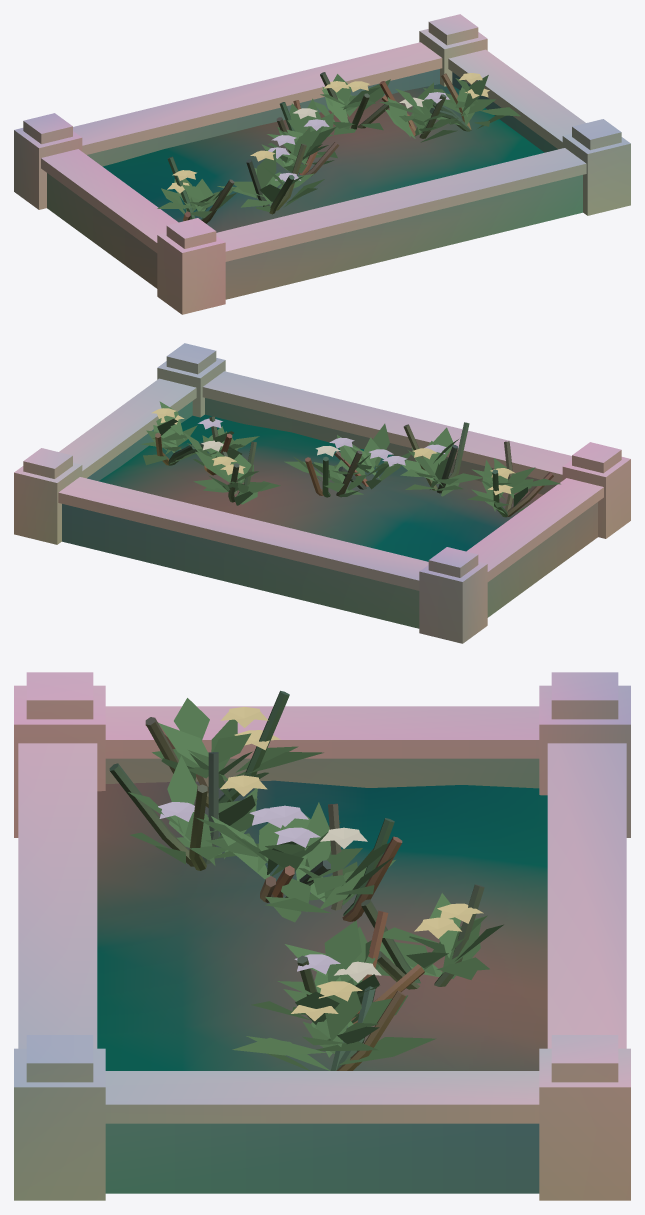
File: garden_bed.glb
The picture shows the model from 3 angles, top to bottom: view 1: azimuth 30°, elevation 25°; view 2: azimuth 150°, elevation 25°; view 3: azimuth 270°, elevation 25°; orthographic projection. The views are drawn at different scales.
Parts seen in each view (by area): view 1: bed_coping, bed_curb, bed_soil, growth; view 2: bed_coping, bed_soil, bed_curb, growth; view 3: bed_coping, bed_soil, bed_curb, growth, stem_1_1, stem_0_1, stem_6_0, stem_3_0, stem_1_2, stem_1_0, stem_4_2, stem_4_0.
Boxes of the visible parts, bbox=[...] form: bed_coping: bbox=[14, 14, 630, 314]; bed_curb: bbox=[47, 69, 582, 299]; bed_soil: bbox=[103, 84, 544, 232]; growth: bbox=[157, 73, 520, 222]; bed_coping: bbox=[14, 343, 630, 643]; bed_soil: bbox=[99, 414, 543, 561]; bed_curb: bbox=[62, 398, 597, 628]; growth: bbox=[140, 401, 560, 513]; bed_coping: bbox=[14, 672, 630, 1200]; bed_soil: bbox=[97, 780, 547, 1070]; bed_curb: bbox=[105, 758, 539, 1193]; growth: bbox=[128, 698, 503, 1070]; stem_1_1: bbox=[109, 763, 193, 866]; stem_0_1: bbox=[218, 690, 289, 803]; stem_6_0: bbox=[336, 990, 406, 1070]; stem_3_0: bbox=[342, 836, 402, 921]; stem_1_2: bbox=[189, 784, 207, 870]; stem_1_0: bbox=[202, 752, 218, 864]; stem_4_2: bbox=[434, 884, 484, 986]; stem_4_0: bbox=[361, 899, 420, 983].
Bounding box in the file's own units: 2.28 × 0.4437 × 1.48.
